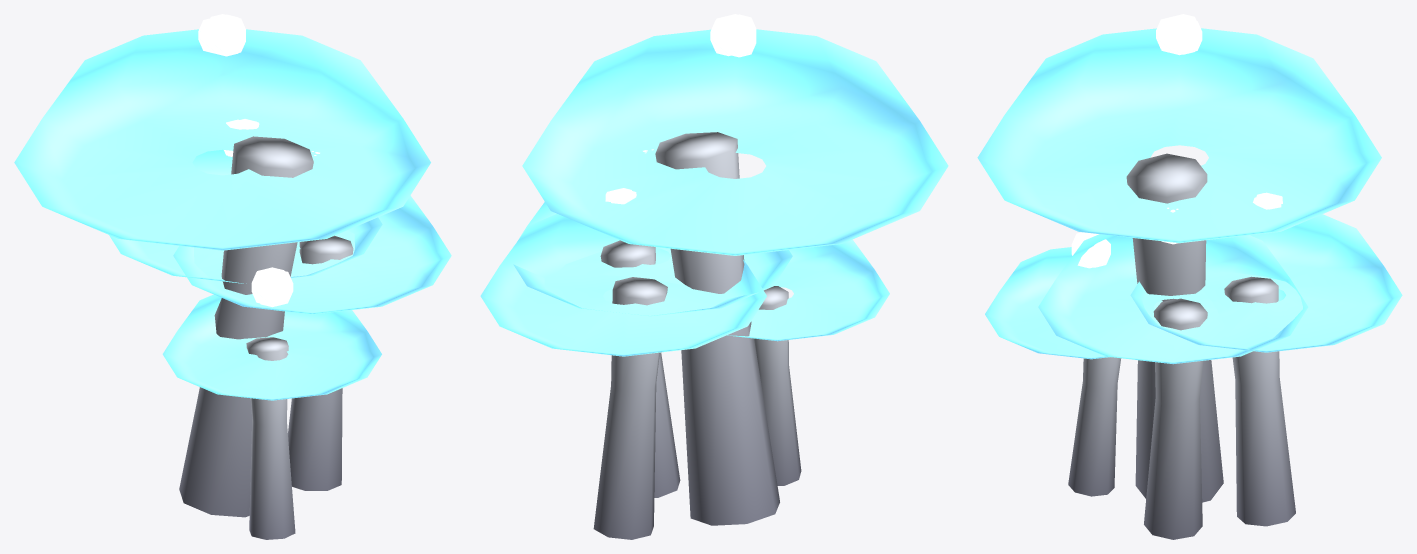
Rendered from mushrooms.glb.
3 renders of one model, left to right at view 1: azimuth 30°, elevation 25°; view 2: azimuth 150°, elevation 25°; view 3: azimuth 270°, elevation 25°, orthographic. The views are drawn at different scales.
Visible parts, largest first — view 1: Mushroom; view 2: Mushroom; view 3: Mushroom.
Part boxes in pixels (x1,y1,x2,y2): Mushroom: [14, 14, 451, 539]; Mushroom: [480, 14, 948, 539]; Mushroom: [977, 14, 1402, 539].
Bounding box in the file's own units: 0.806 × 0.9677 × 0.7891.
